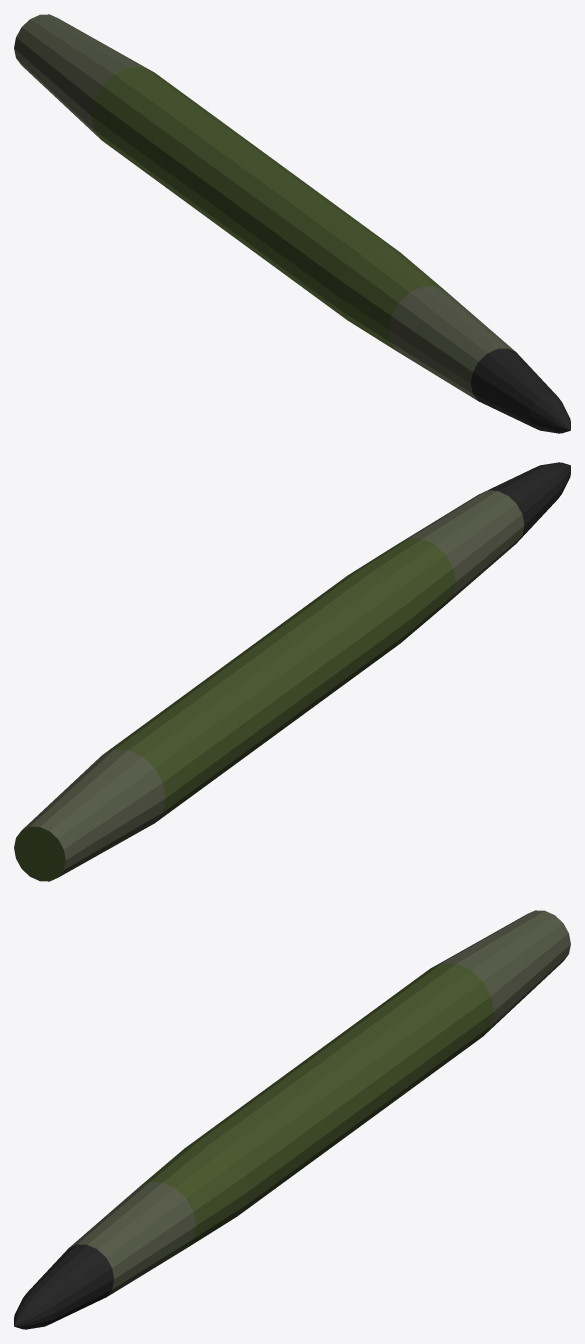
The model's file is rbs70missile_scaled_1_5_(EXPORT).glb.
The picture shows the model from 3 angles, top to bottom: view 1: azimuth 30°, elevation 25°; view 2: azimuth 150°, elevation 25°; view 3: azimuth 330°, elevation 25°; orthographic projection.
Parts seen in each view (by area): view 1: Fuse; view 2: Fuse; view 3: Fuse.
Part boxes in pixels (x1,y1,x2,y2): Fuse: [14, 14, 570, 433]; Fuse: [14, 462, 570, 881]; Fuse: [14, 910, 570, 1329].
Bounding box in the file's own units: 1.5 × 1.5 × 18.49.
Materials: 2 (2 with a texture image).
